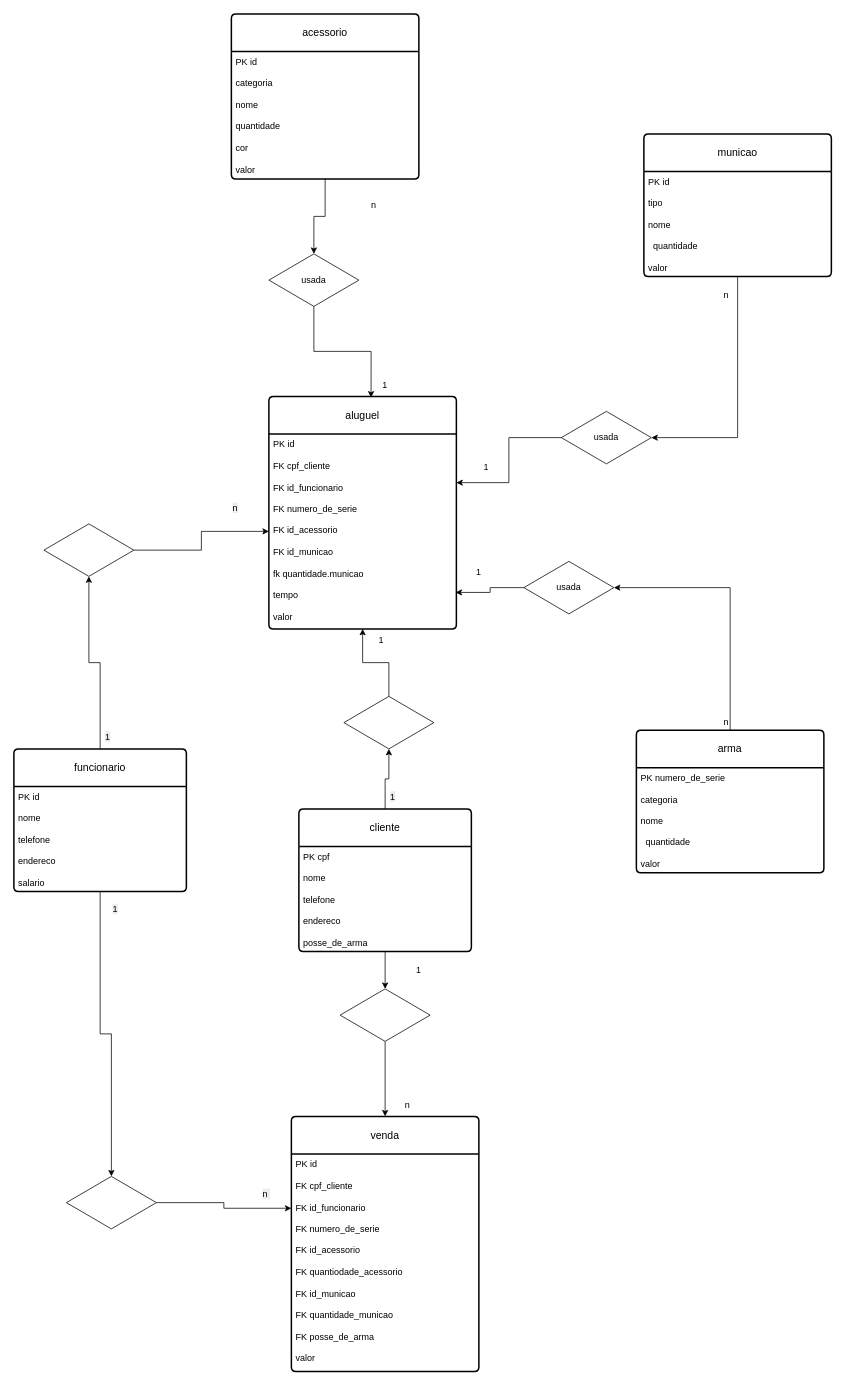
This 845x1398 diagram has some shape labels left out. The shapes that lost their labels are listed below. From the top down, each one's centre as x and y in pixels, then its label:
At point 88,549: "cuida".
At point 388,722: "aluga".
At point 384,1014: "efetuar".
At point 111,1202: "aprova".
